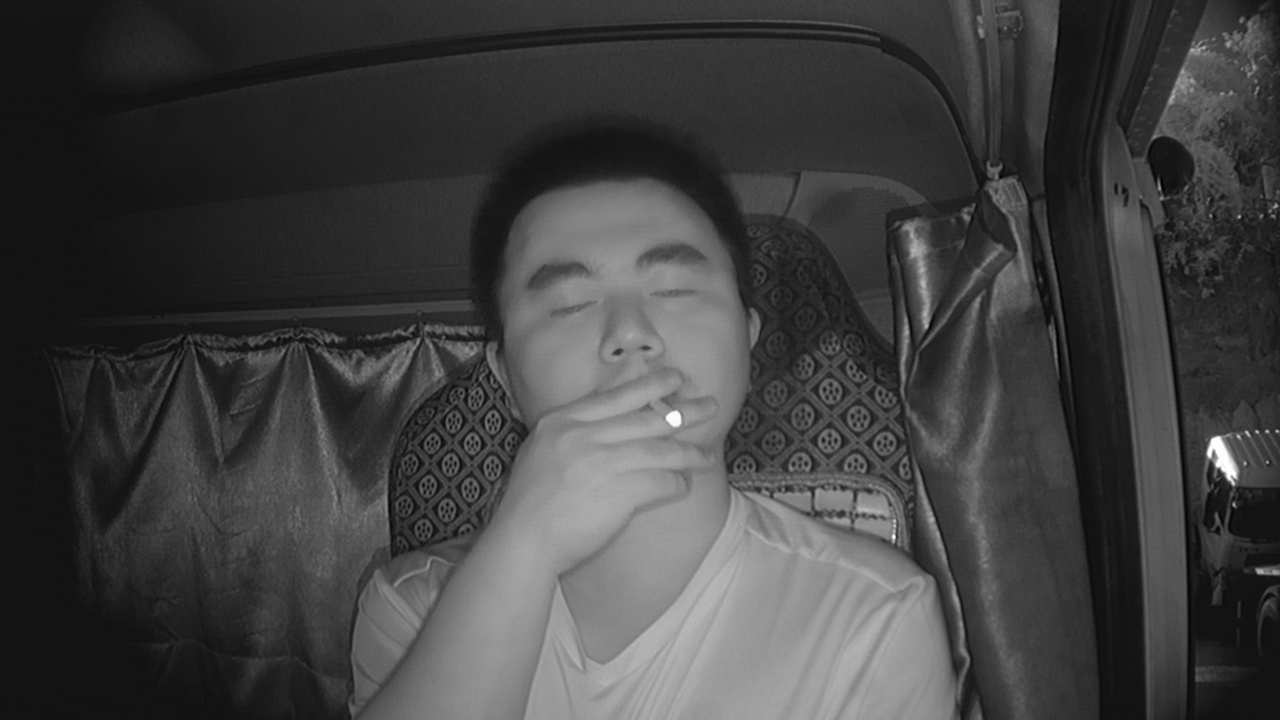hand: (525, 374, 731, 540)
